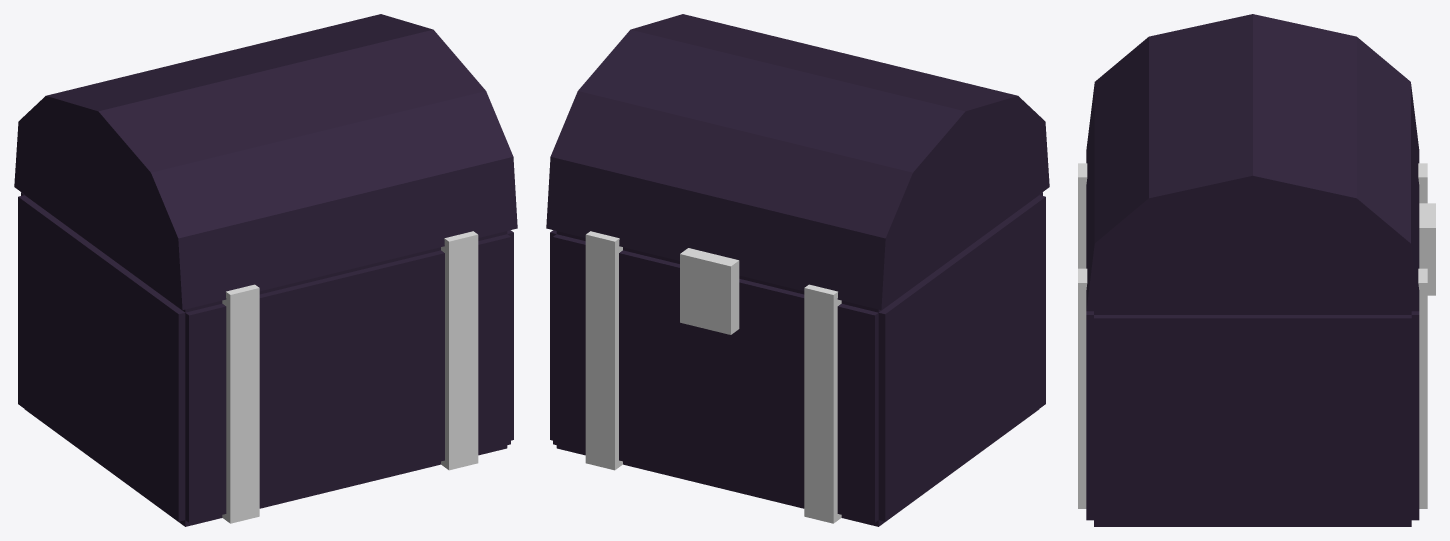
Rendered from obsidian_chest_v0.glb.
The picture shows the model from 3 angles, left to right: view 1: azimuth 30°, elevation 25°; view 2: azimuth 150°, elevation 25°; view 3: azimuth 270°, elevation 25°; orthographic projection.
Visible parts, largest first — view 1: obsidian_chest_v0; view 2: obsidian_chest_v0; view 3: obsidian_chest_v0.
Boxes of the visible parts, left/top/right/bottom form: obsidian_chest_v0: left=14, top=14, right=517, bottom=526; obsidian_chest_v0: left=546, top=14, right=1049, bottom=526; obsidian_chest_v0: left=1078, top=14, right=1435, bottom=526.
Size of the model in its own units: 0.92 by 0.94 by 0.86.
